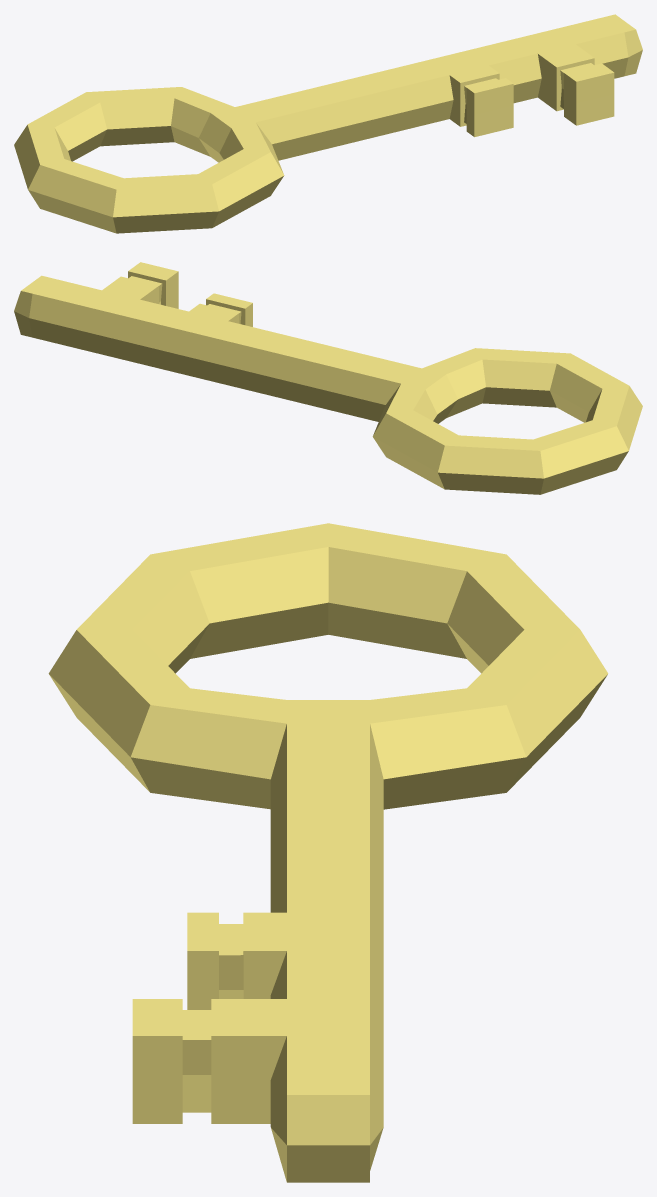
Rendered from key.fbx.
The picture shows the model from 3 angles, top to bottom: view 1: azimuth 30°, elevation 25°; view 2: azimuth 150°, elevation 25°; view 3: azimuth 270°, elevation 25°; orthographic projection. The views are drawn at different scales.
Visible parts, largest first — view 1: Torus; view 2: Torus; view 3: Torus.
Part boxes in pixels (box(x1,y1,x2,y2)): Torus: box(14, 14, 642, 233); Torus: box(14, 262, 642, 494); Torus: box(48, 523, 608, 1182).
Bounding box in the file's own units: 624 × 43.3 × 250.
